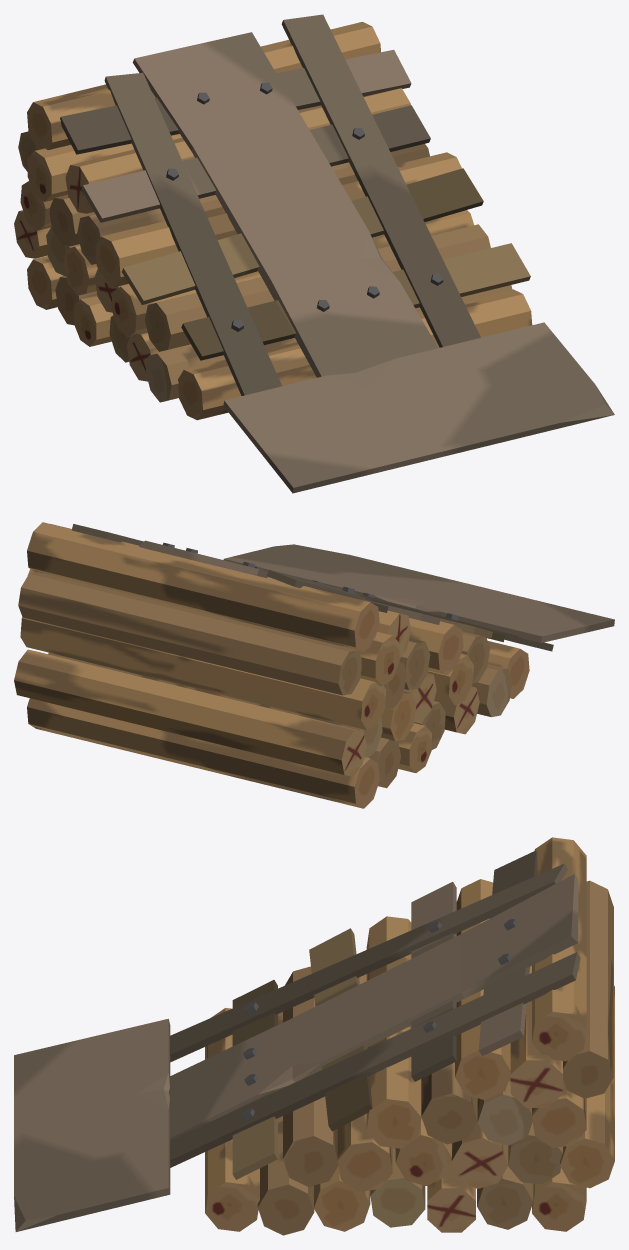
The model's file is SM_Prop_Ramp_Logs_02.fbx.
3 renders of one model, top to bottom at view 1: azimuth 30°, elevation 25°; view 2: azimuth 150°, elevation 25°; view 3: azimuth 270°, elevation 25°, orthographic. The views are drawn at different scales.
Visible parts, largest first — view 1: SM_Prop_Ramp_Logs_02; view 2: SM_Prop_Ramp_Logs_02; view 3: SM_Prop_Ramp_Logs_02.
Part boxes in pixels (x1,y1,x2,y2): SM_Prop_Ramp_Logs_02: (14, 14, 614, 493); SM_Prop_Ramp_Logs_02: (14, 522, 614, 808); SM_Prop_Ramp_Logs_02: (14, 837, 614, 1235).
Bounding box in the file's own units: 559 × 338 × 761.
